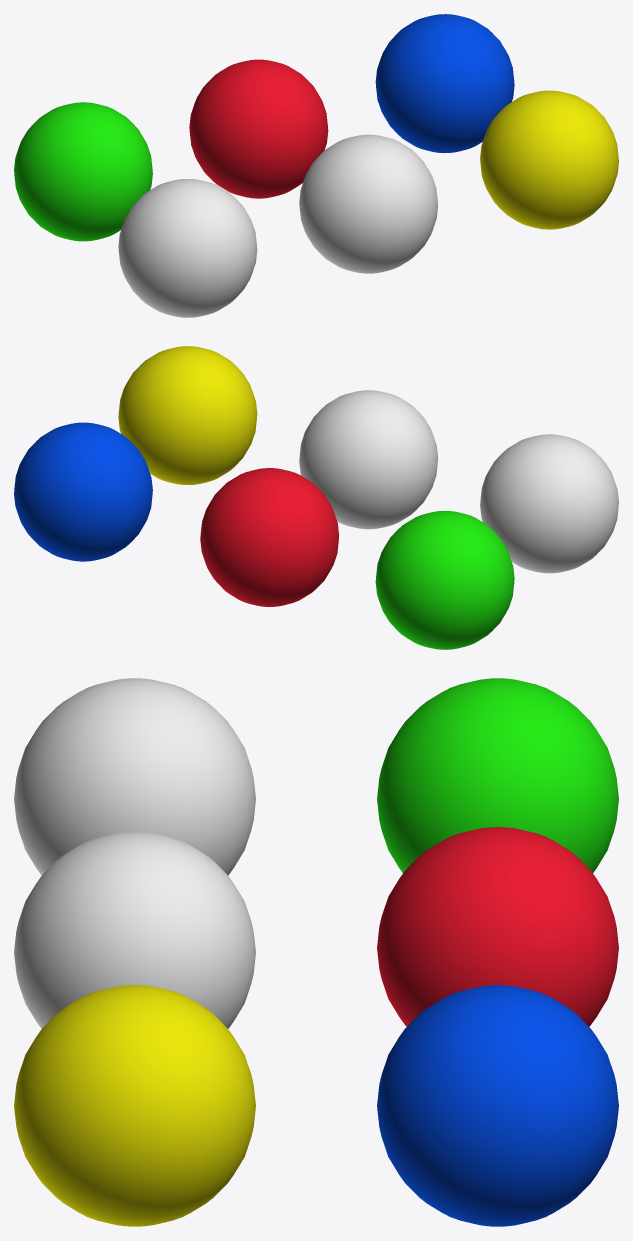
File: pbr.glb
3 views of the same model, one above another, from view 1: azimuth 30°, elevation 25°; view 2: azimuth 150°, elevation 25°; view 3: azimuth 270°, elevation 25° (orthographic). The views are drawn at different scales.
Visible parts, largest first — view 1: Sphere.002, Sphere, Sphere.001, Sphere.004, Sphere.003, Sphere.005; view 2: Sphere.005, Sphere.003, Sphere.004, Sphere, Sphere.001, Sphere.002; view 3: Sphere, Sphere.005, Sphere.004, Sphere.001, Sphere.002, Sphere.003.
Boxes of the visible parts, bbox=[...] form: Sphere.002: bbox=[299, 134, 437, 273]; Sphere: bbox=[480, 90, 618, 229]; Sphere.001: bbox=[118, 178, 257, 317]; Sphere.004: bbox=[189, 59, 328, 198]; Sphere.003: bbox=[14, 102, 152, 241]; Sphere.005: bbox=[375, 14, 514, 153]; Sphere.005: bbox=[14, 422, 152, 561]; Sphere.003: bbox=[375, 510, 514, 649]; Sphere.004: bbox=[200, 468, 339, 606]; Sphere: bbox=[118, 346, 257, 485]; Sphere.001: bbox=[480, 434, 618, 573]; Sphere.002: bbox=[299, 390, 437, 529]; Sphere: bbox=[14, 985, 255, 1226]; Sphere.005: bbox=[377, 985, 618, 1226]; Sphere.004: bbox=[377, 827, 618, 1026]; Sphere.001: bbox=[14, 678, 255, 875]; Sphere.002: bbox=[14, 831, 255, 1028]; Sphere.003: bbox=[377, 678, 618, 872].
Size of the model in its own units: 8 by 2 by 5.
